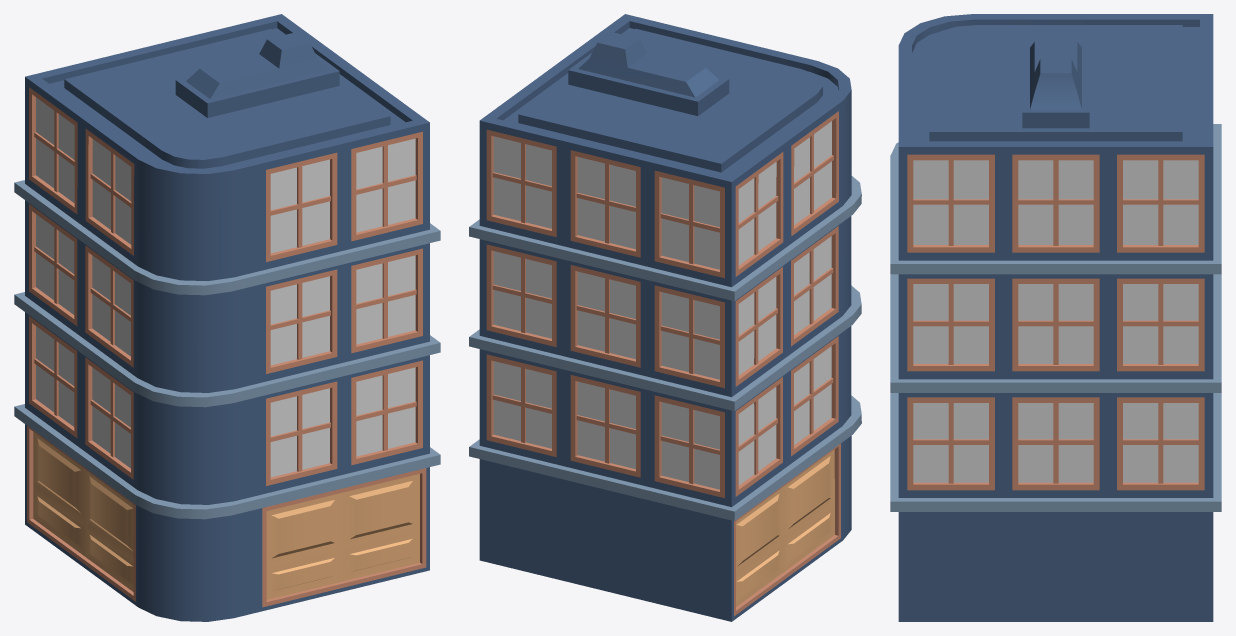
The model's file is cb-apartment-A.fbx.
3 renders of one model, left to right at view 1: azimuth 30°, elevation 25°; view 2: azimuth 150°, elevation 25°; view 3: azimuth 270°, elevation 25°, orthographic. The views are drawn at different scales.
Visible parts, largest first — view 1: cb-apartment-A; view 2: cb-apartment-A; view 3: cb-apartment-A.
Part boxes in pixels (bbox=[...]): cb-apartment-A: bbox=[14, 14, 440, 621]; cb-apartment-A: bbox=[469, 14, 861, 621]; cb-apartment-A: bbox=[890, 14, 1221, 621].
Bounding box in the file's own units: 7.6 × 13.21 × 7.6.
